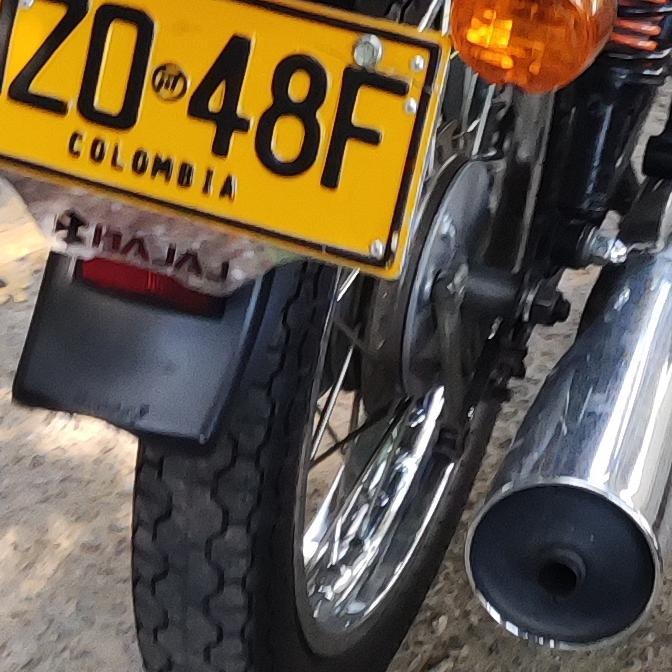plates: (0, 0, 446, 269)
